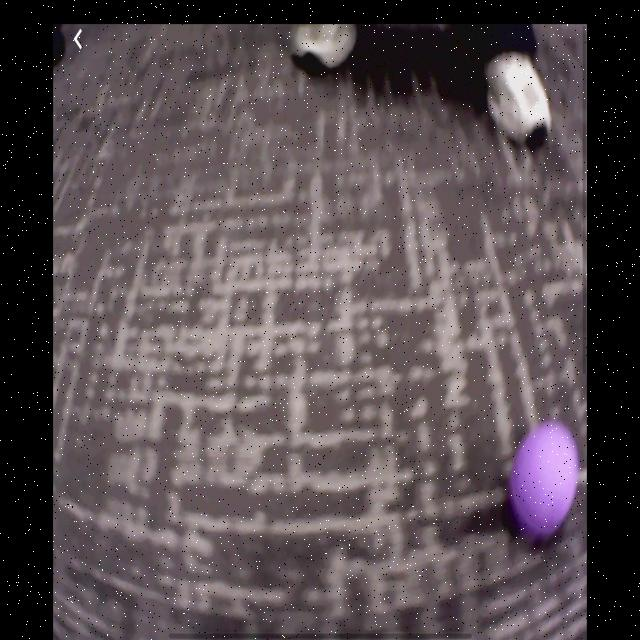ball: (513, 421, 580, 536)
